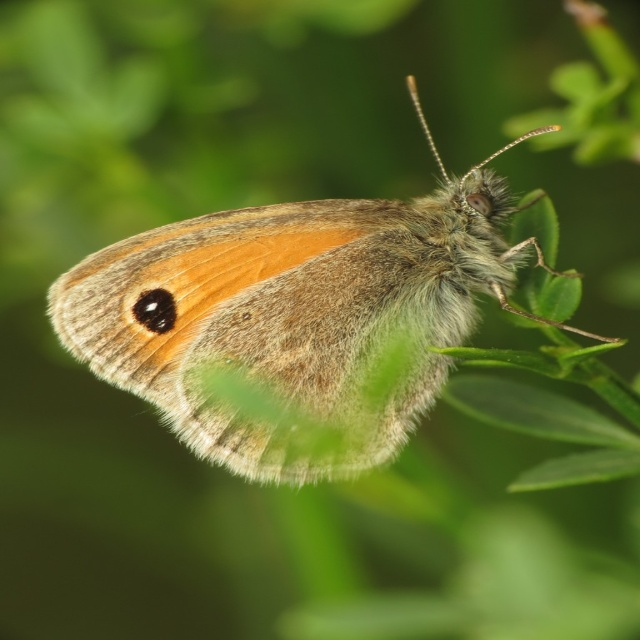Butterfly: (45, 73, 626, 487)
